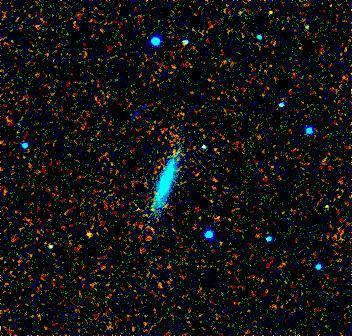star: (72, 225, 102, 255)
